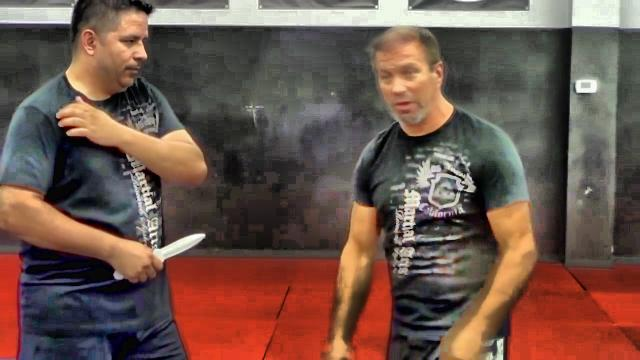knife: (110, 228, 210, 284)
